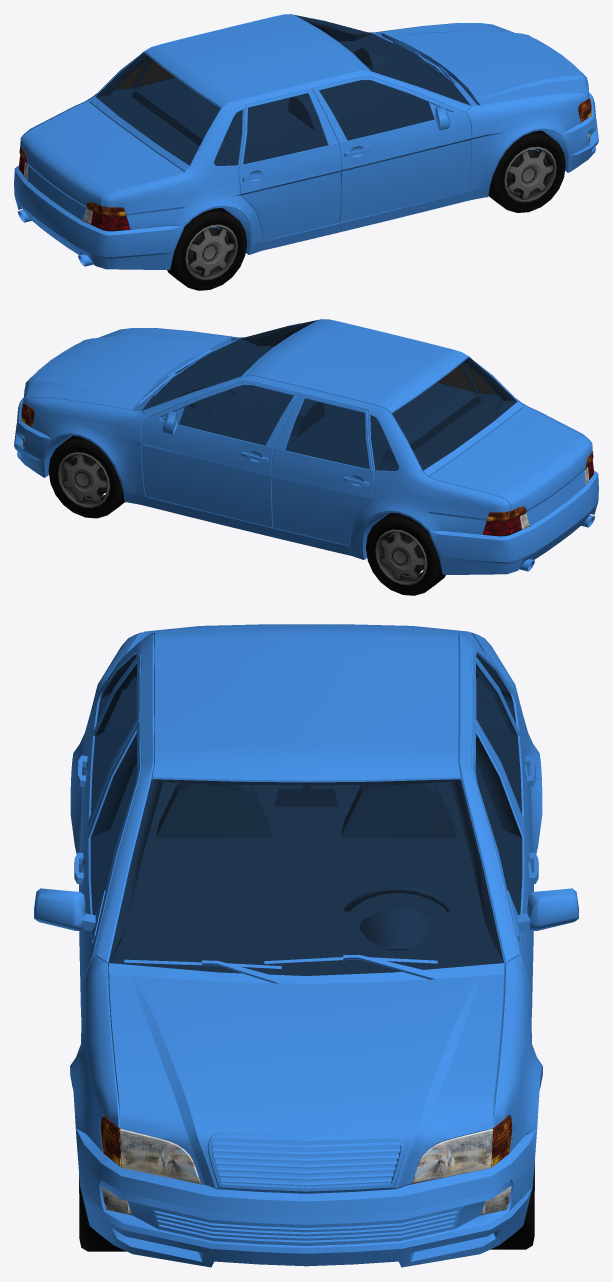
Rendered from ego_car.glb.
3 views of the same model, one above another, from view 1: azimuth 30°, elevation 25°; view 2: azimuth 150°, elevation 25°; view 3: azimuth 270°, elevation 25° (orthographic). The views are drawn at different scales.
Visible parts, largest first — view 1: ego_car2_body, ego_car2_glass, ego_car2_wheel_3, ego_car2_wheel_2, ego_car2_optics; view 2: ego_car2_body, ego_car2_glass, ego_car2_wheel_1, ego_car2_wheel_0, ego_car2_optics; view 3: ego_car2_body, ego_car2_glass, ego_car2_optics, ego_car2_wheel_2, ego_car2_wheel_0.
Part boxes in pixels (x1=…): ego_car2_body: x1=14, y1=14, x2=598, y2=269; ego_car2_glass: x1=95, y1=15, x2=470, y2=165; ego_car2_wheel_3: x1=167, y1=208, x2=246, y2=290; ego_car2_wheel_2: x1=488, y1=130, x2=565, y2=212; ego_car2_optics: x1=19, y1=96, x2=591, y2=231; ego_car2_body: x1=14, y1=319, x2=598, y2=574; ego_car2_glass: x1=142, y1=320, x2=517, y2=470; ego_car2_wheel_1: x1=366, y1=513, x2=445, y2=595; ego_car2_wheel_0: x1=48, y1=436, x2=124, y2=518; ego_car2_optics: x1=21, y1=401, x2=593, y2=536; ego_car2_body: x1=34, y1=624, x2=578, y2=1267; ego_car2_glass: x1=90, y1=654, x2=522, y2=975; ego_car2_optics: x1=100, y1=1115, x2=512, y2=1215; ego_car2_wheel_2: x1=79, y1=1174, x2=126, y2=1251; ego_car2_wheel_0: x1=490, y1=1161, x2=534, y2=1249.
Bounding box in the file's own units: 4.36 × 1.34 × 1.94.
7 materials, 5 textured.
